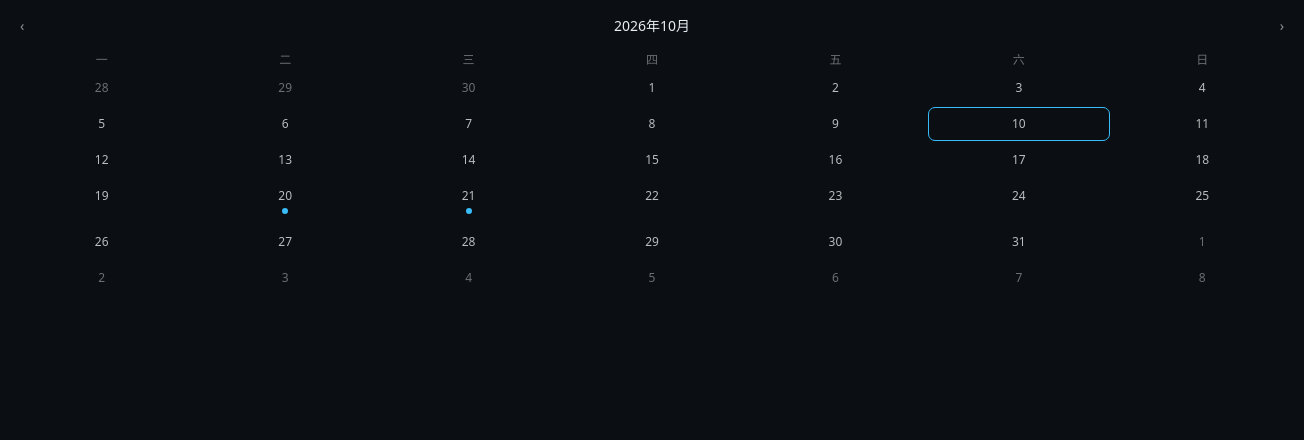
Scenario: 点某天 ⇒ 列当天到期的条目
expect the text "2026年10月" is shown: met, box [614,16,690,36]
Click the button named "10 月 20 日": coordinates (285, 201) [195,180,375,222]
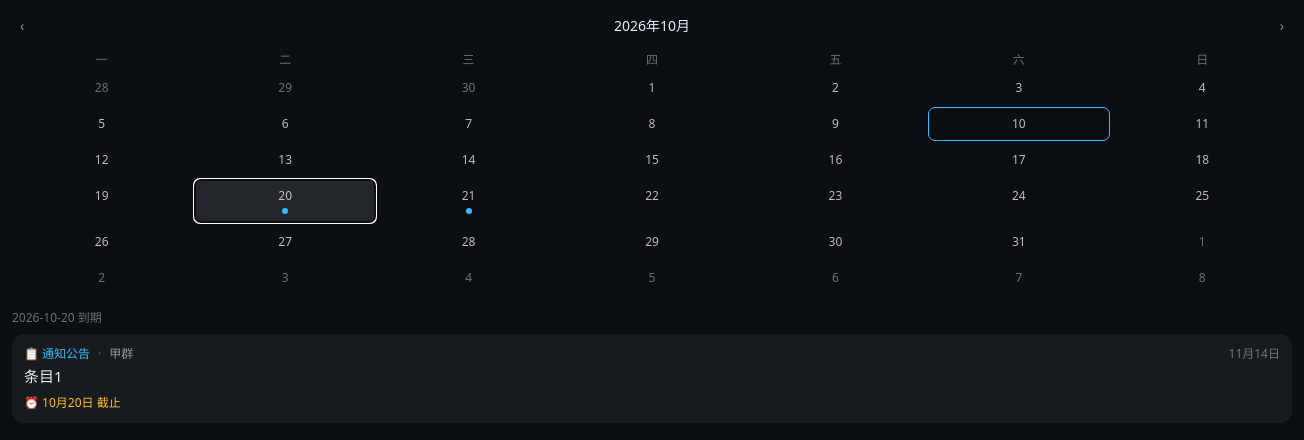
expect the text "条目1" is shown: met, box [24,366,63,386]
